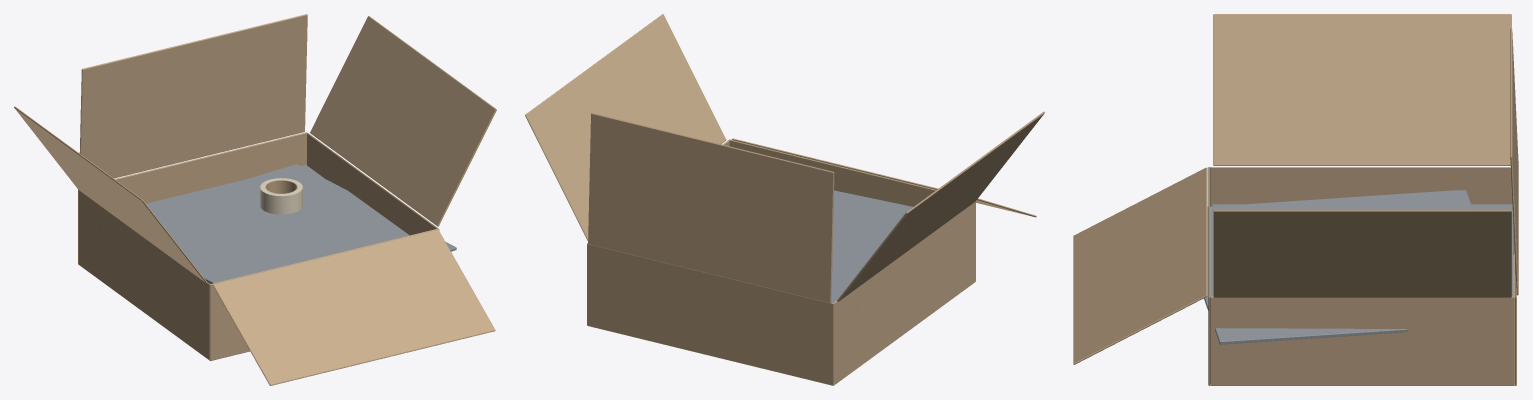
Rendered from Kit_TransTileBox.fbx.
3 views of the same model, side by side, from view 1: azimuth 30°, elevation 25°; view 2: azimuth 150°, elevation 25°; view 3: azimuth 270°, elevation 25° (orthographic). The views are drawn at different scales.
Visible parts, largest first — view 1: Kit_TransTileBox_LOD0; view 2: Kit_TransTileBox_LOD0; view 3: Kit_TransTileBox_LOD0.
Boxes of the visible parts, x1=… form: Kit_TransTileBox_LOD0: x1=14, y1=14, x2=496, y2=385; Kit_TransTileBox_LOD0: x1=525, y1=14, x2=1044, y2=385; Kit_TransTileBox_LOD0: x1=1073, y1=14, x2=1518, y2=385.
Size of what is drawn, in the model's own units: 0.9676 by 0.5122 by 0.903.
